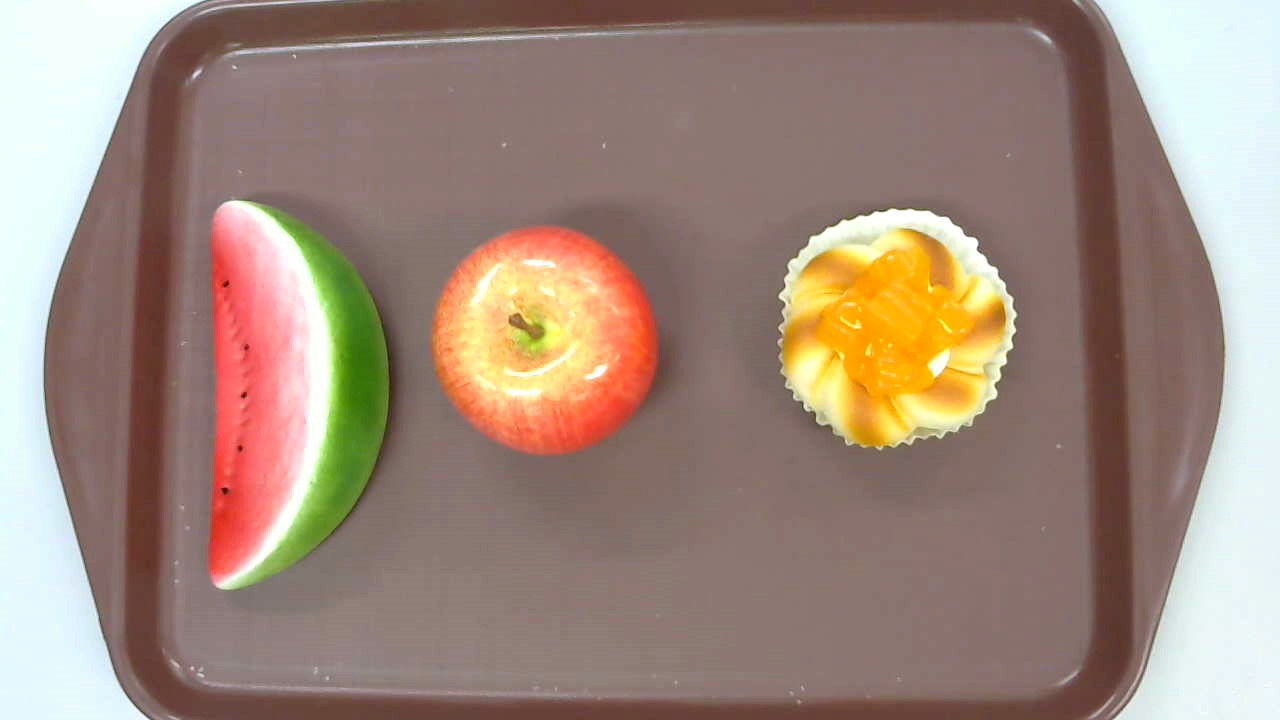mango tart: (777, 208, 1016, 453)
red apple: (431, 226, 661, 457)
water melon: (207, 198, 388, 591)
